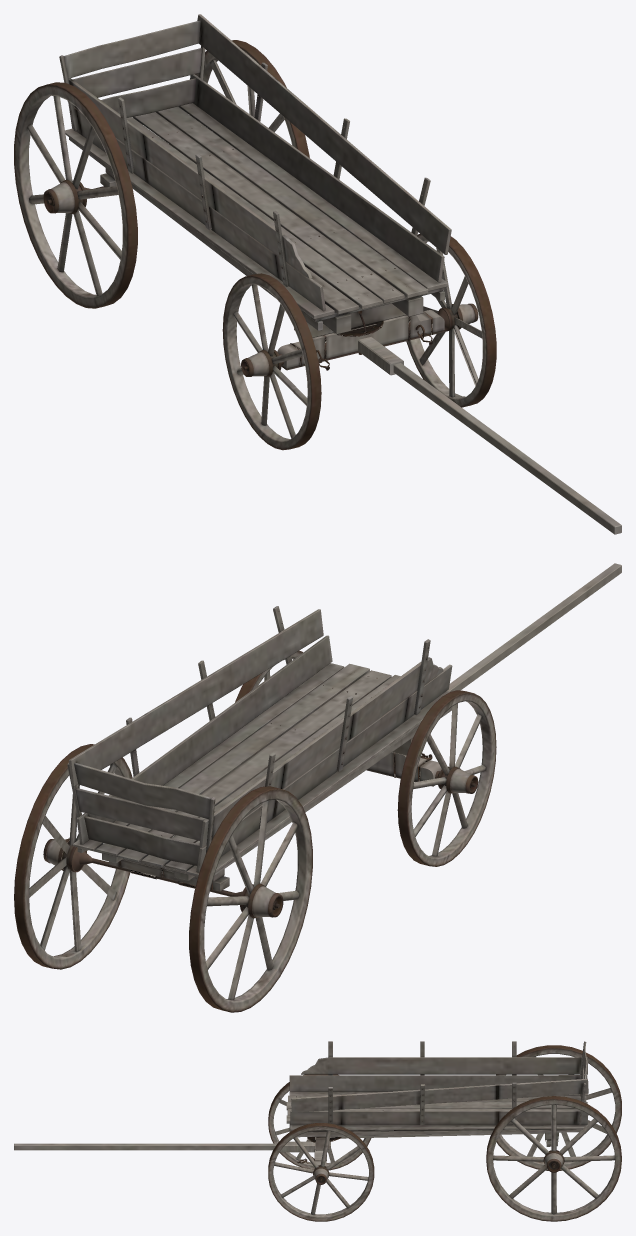
File: farm-box-far.glb
The picture shows the model from 3 angles, top to bottom: view 1: azimuth 30°, elevation 25°; view 2: azimuth 150°, elevation 25°; view 3: azimuth 270°, elevation 25°; orthographic projection. The views are drawn at different scales.
Visible parts, largest first — view 1: CartBody_CartBase_0, wheel_rr_CartDetails_0, wheel_fr_CartDetails_0, wheel_fl_CartDetails_0, single_reconstructed_pole, CartSteer_CartBase_0, wheel_rl_CartDetails_0, central_drawbar_bearing, CartSteer_CartDetails_0; view 2: CartBody_CartBase_0, wheel_rr_CartDetails_0, wheel_rl_CartDetails_0, wheel_fr_CartDetails_0, single_reconstructed_pole, CartSteer_CartBase_0, CartBody_CartDetails_0; view 3: CartBody_CartBase_0, wheel_rl_CartDetails_0, wheel_fl_CartDetails_0, wheel_rr_CartDetails_0, single_reconstructed_pole, wheel_fr_CartDetails_0, central_reconstructed_reach, central_drawbar_bearing.
Boxes of the visible parts, x1,y1,x2,y2 form: CartBody_CartBase_0: (59, 14, 451, 337); wheel_rr_CartDetails_0: (14, 82, 137, 308); wheel_fr_CartDetails_0: (222, 273, 321, 450); wheel_fl_CartDetails_0: (406, 234, 496, 407); single_reconstructed_pole: (393, 363, 621, 534); CartSteer_CartBase_0: (277, 310, 444, 368); wheel_rl_CartDetails_0: (190, 40, 309, 157); central_drawbar_bearing: (358, 337, 403, 375); CartSteer_CartDetails_0: (281, 312, 444, 370); CartBody_CartBase_0: (67, 606, 452, 891); wheel_rr_CartDetails_0: (189, 786, 312, 1012); wheel_rl_CartDetails_0: (14, 744, 132, 969); wheel_fr_CartDetails_0: (397, 690, 496, 866); single_reconstructed_pole: (447, 563, 621, 691); CartSteer_CartBase_0: (368, 752, 441, 781); CartBody_CartDetails_0: (92, 611, 428, 896); CartBody_CartBase_0: (286, 1041, 588, 1150); wheel_rl_CartDetails_0: (486, 1096, 621, 1221); wheel_fl_CartDetails_0: (268, 1123, 374, 1221); wheel_rr_CartDetails_0: (496, 1045, 621, 1170); single_reconstructed_pole: (14, 1143, 276, 1150); wheel_fr_CartDetails_0: (268, 1074, 371, 1170); central_reconstructed_reach: (330, 1132, 544, 1138); central_drawbar_bearing: (276, 1141, 330, 1152).
Size of the model in its own units: 1.6 by 1.5 by 6.14.
Materials: 2 (2 with a texture image).
